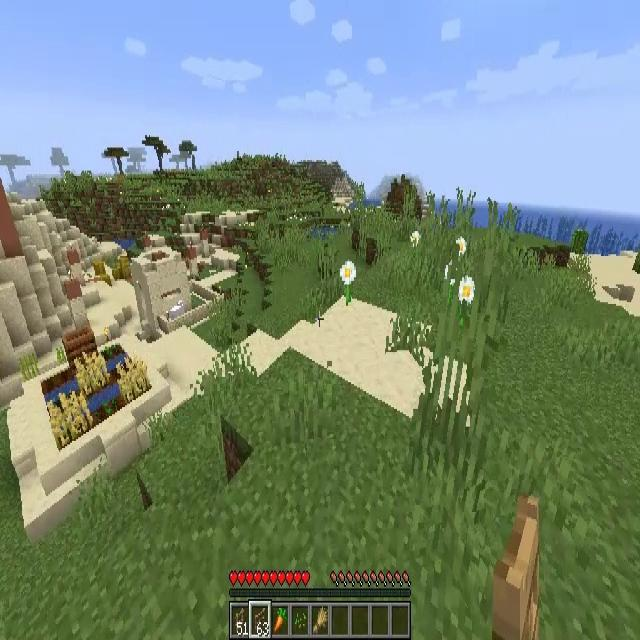flower: (338, 258, 356, 306), (458, 276, 477, 304), (456, 237, 468, 258), (410, 232, 420, 249)
sheep: (167, 298, 185, 322)
